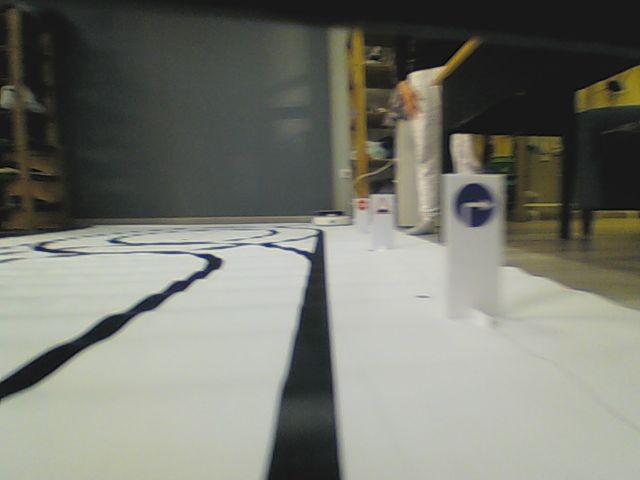Right: (453, 181, 497, 229)
